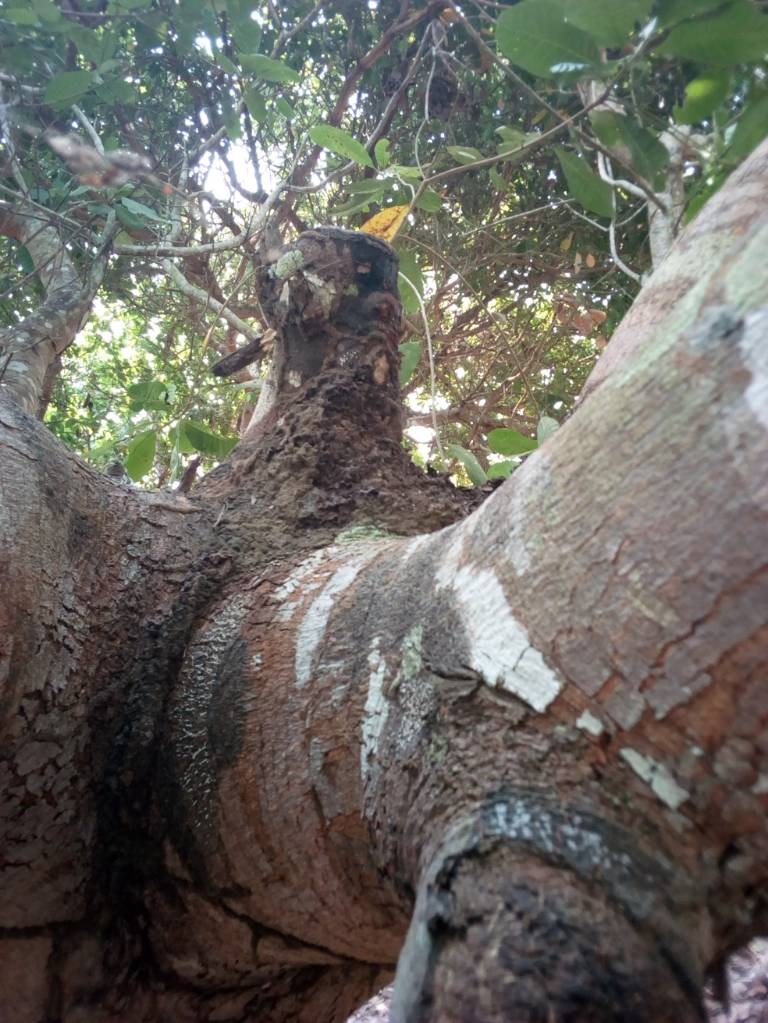Termites: (243, 367, 460, 536)
